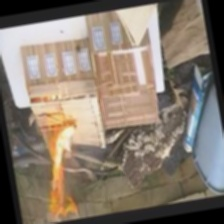fire: (32, 121, 97, 222)
